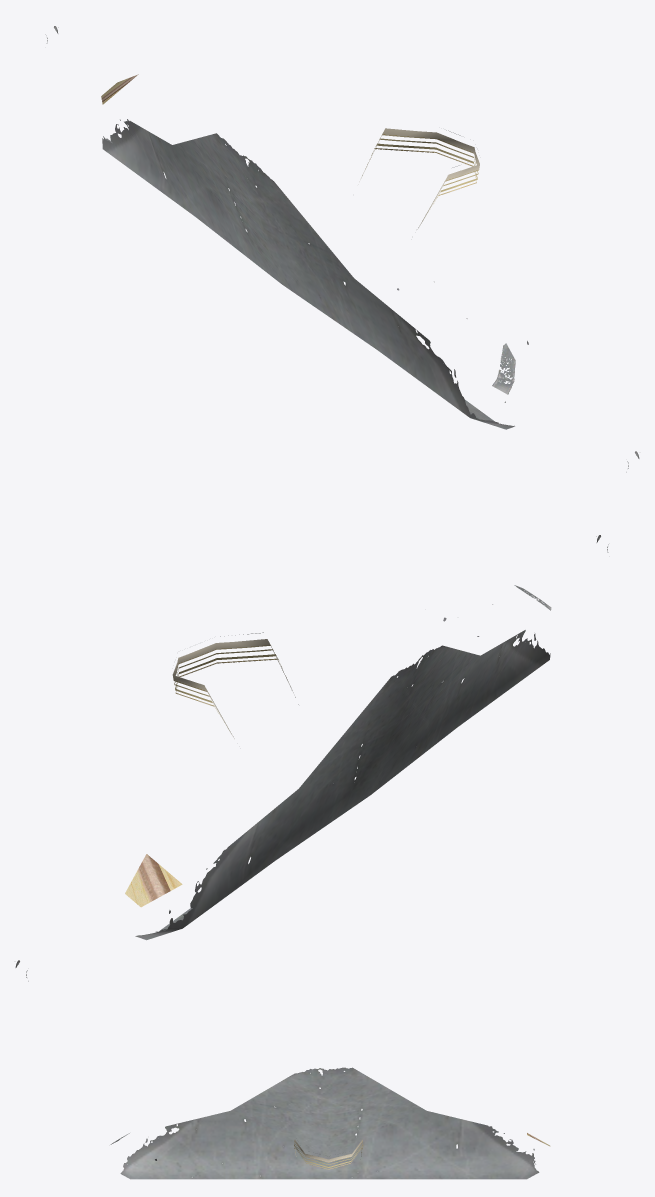
Rendered from trucks1.obj.
3 renders of one model, top to bottom at view 1: azimuth 30°, elevation 25°; view 2: azimuth 150°, elevation 25°; view 3: azimuth 270°, elevation 25°, orthographic. The views are drawn at different scales.
Visible parts, largest first — view 1: TRUCKS1; view 2: TRUCKS1; view 3: TRUCKS1.
Part boxes in pixels (x1,y1,x2,y2): TRUCKS1: [45, 26, 639, 472]; TRUCKS1: [15, 535, 608, 981]; TRUCKS1: [110, 1067, 550, 1179].
Size of the model in its own units: 0.1663 by 0.1248 by 0.6009.
